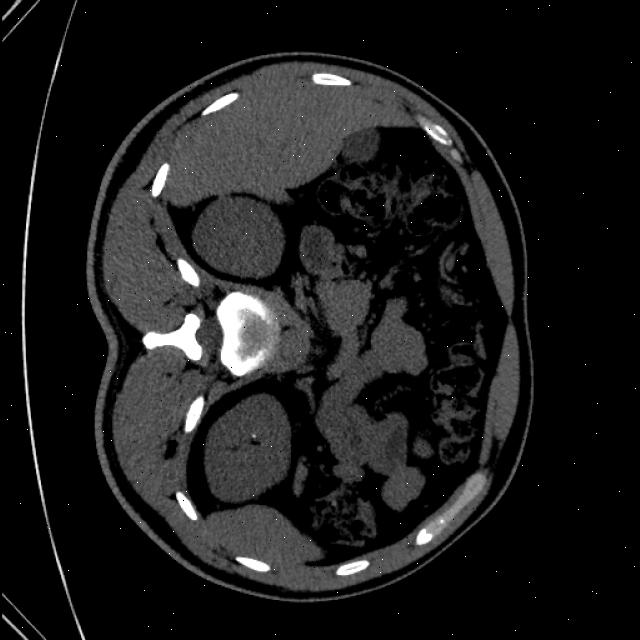kidneystone: (251, 432, 259, 438)
